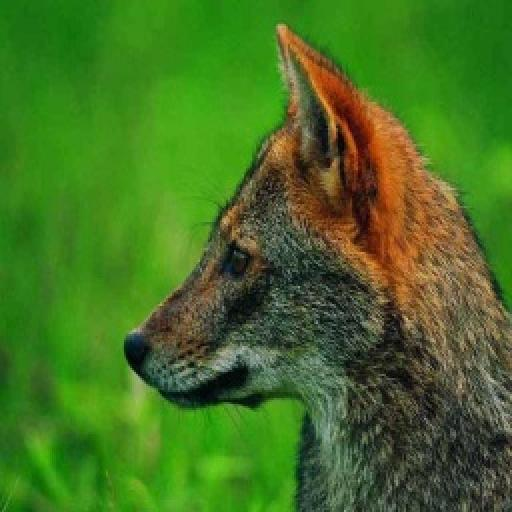zorro: (126, 24, 510, 510)
